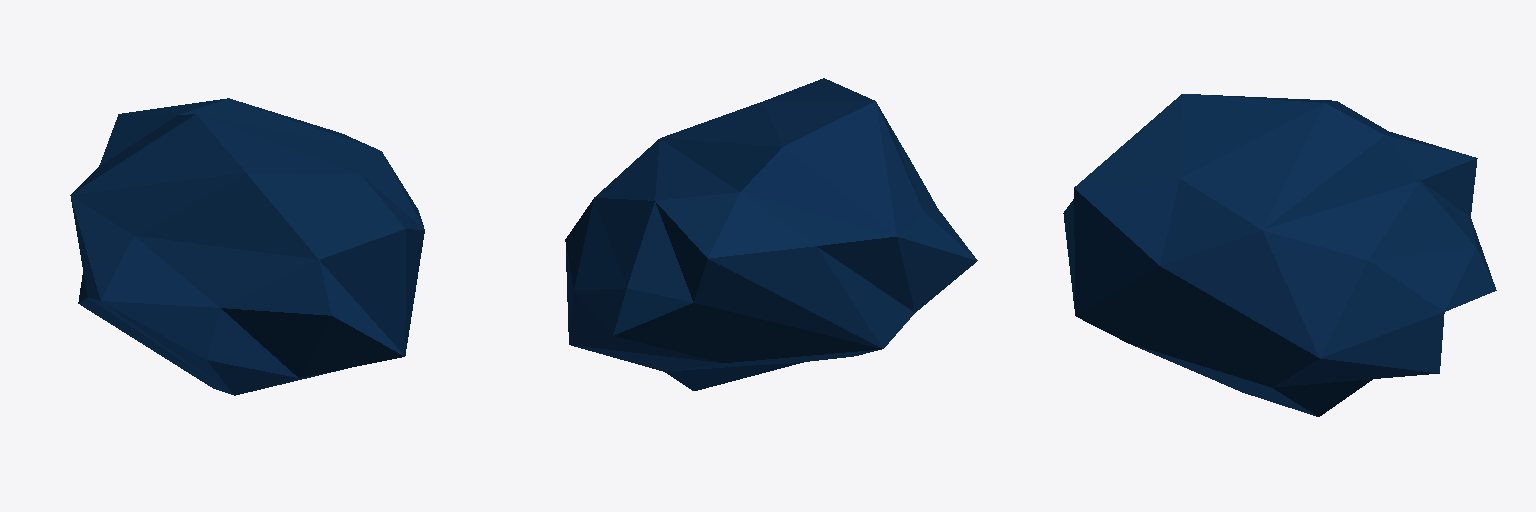
The model's file is AsteroidLP2.obj.
The picture shows the model from 3 angles: view 1: azimuth 30°, elevation 25°; view 2: azimuth 150°, elevation 25°; view 3: azimuth 270°, elevation 25°; orthographic projection.
Parts seen in each view (by area): view 1: asteroidLP.001; view 2: asteroidLP.001; view 3: asteroidLP.001.
Part boxes in pixels (x1,y1,x2,y2): asteroidLP.001: (70,98,424,395); asteroidLP.001: (565,78,977,390); asteroidLP.001: (1063,94,1496,416).
Size of the model in its own units: 3 by 2.11 by 3.08.